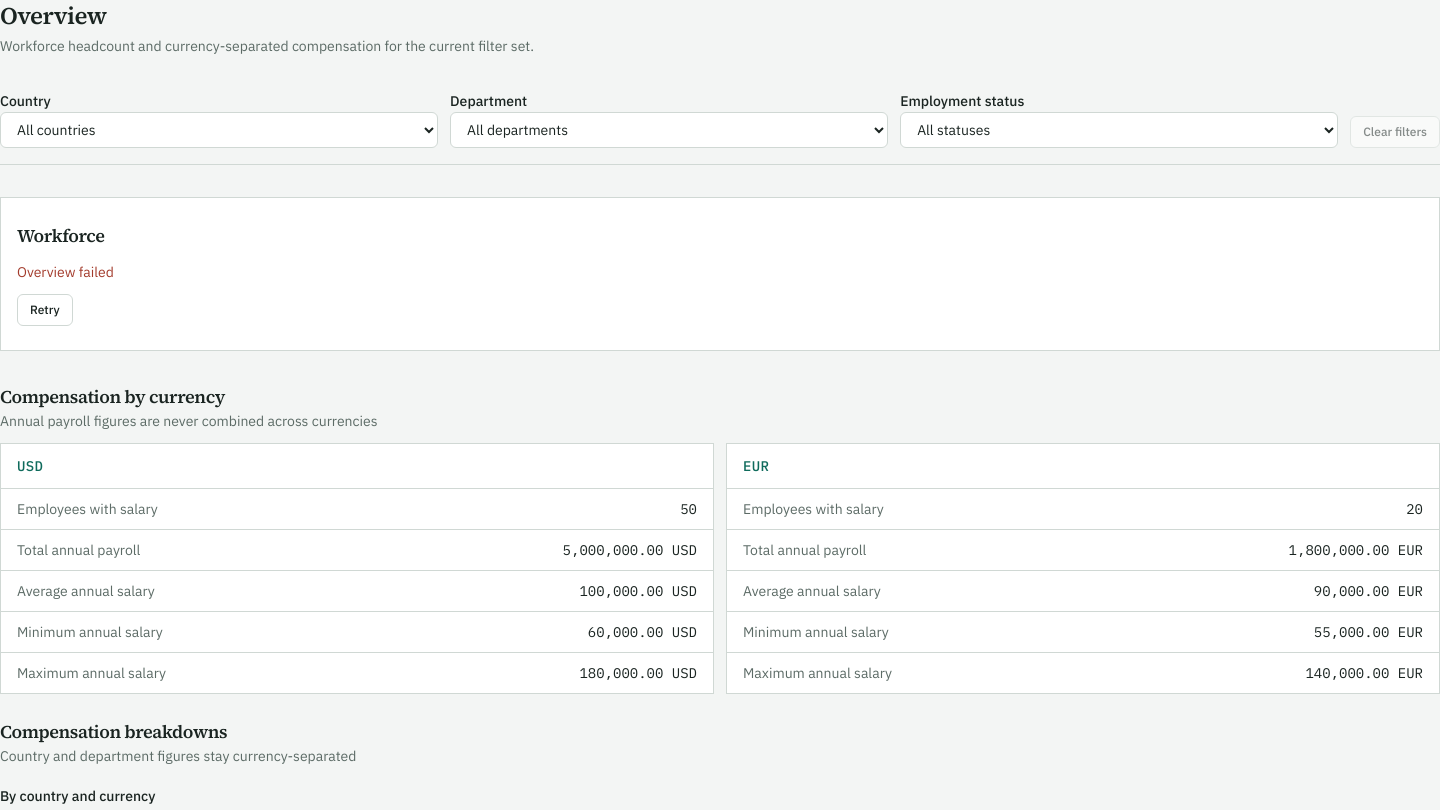
OverviewDashboard › shows error with retry for failed overview
Check: the text "Overview failed" is shown, box [17, 263, 114, 281]
Click the button "Retry" at (45, 310), box [17, 294, 73, 326]
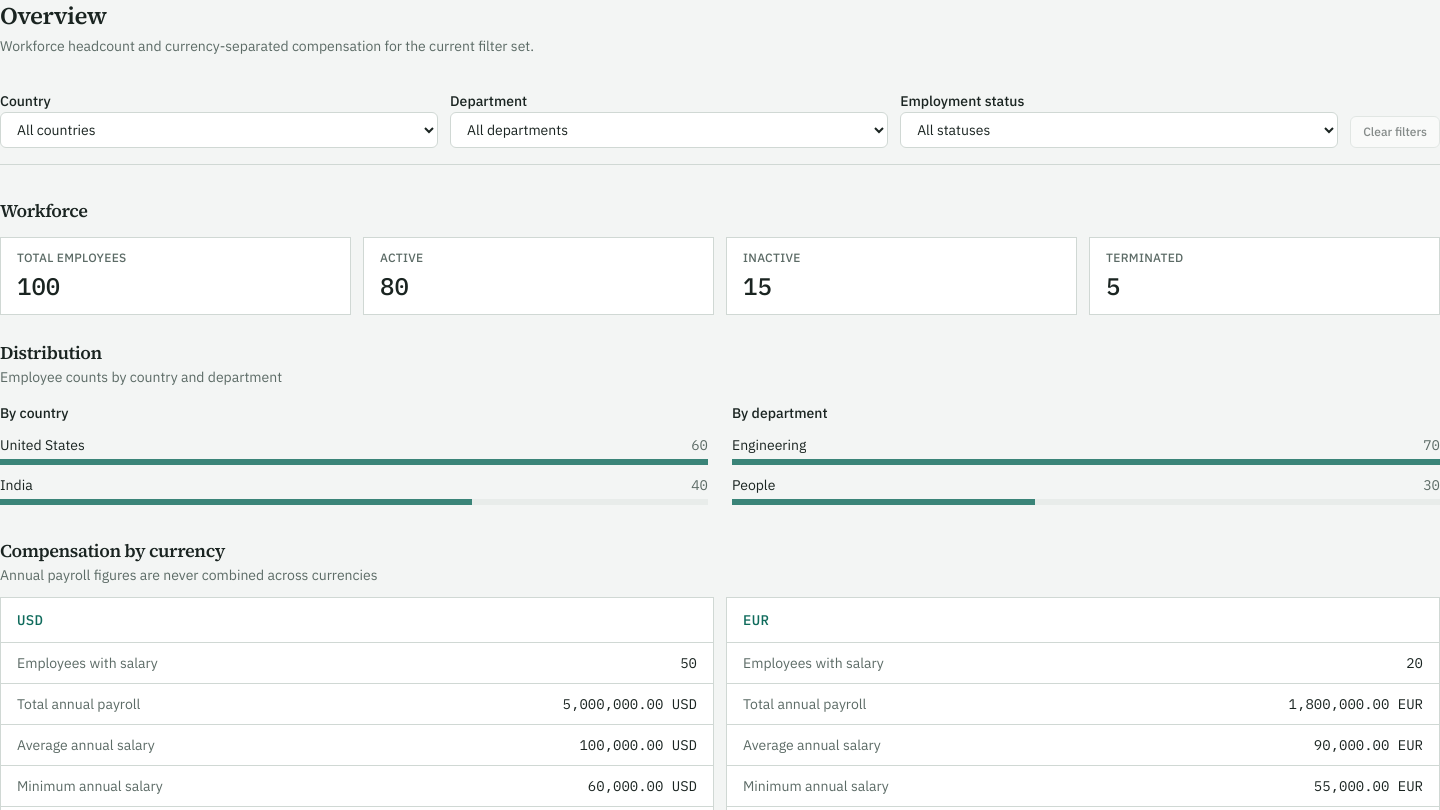
Check: the text "Total employees" is shown, box [17, 250, 126, 265]
